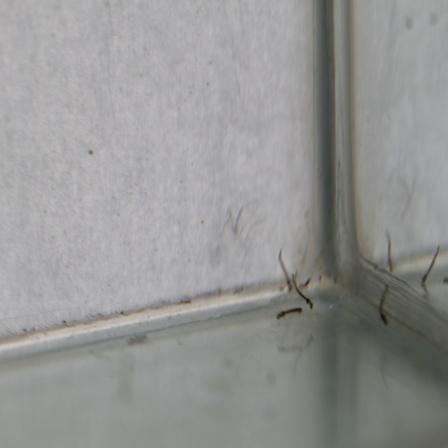Jentik-Nyamuk: (273, 248, 317, 321), (374, 278, 392, 328)
